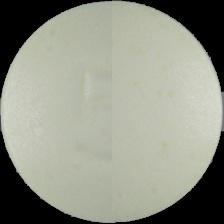50268-525: (0, 0, 224, 224)
